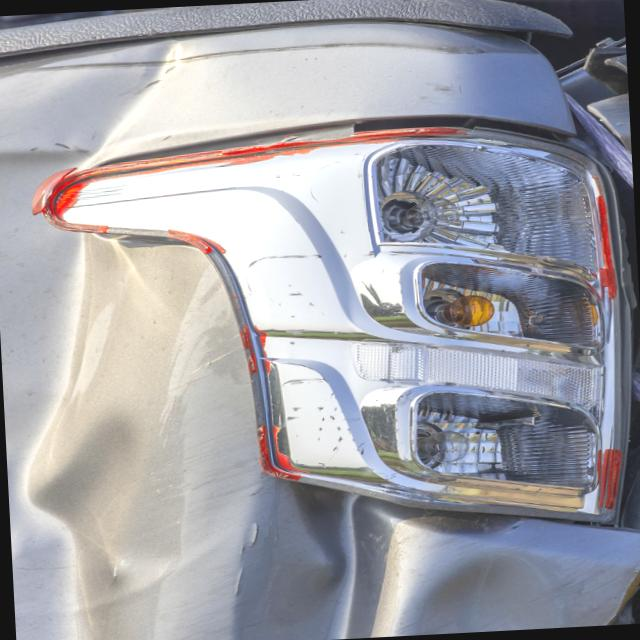Cabossage: (12, 226, 270, 640), (224, 453, 624, 640)
Phare abime: (58, 130, 625, 541)
